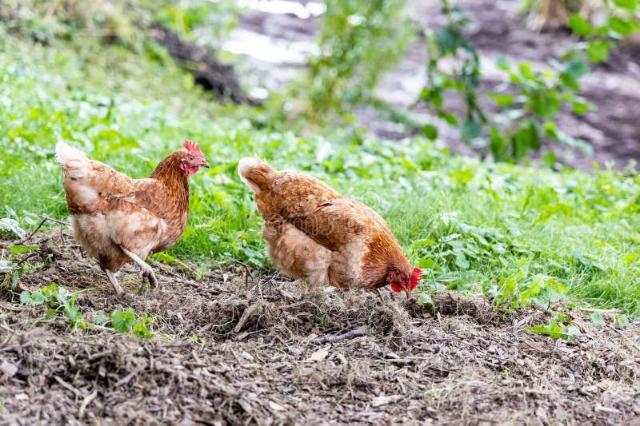Chicken: (237, 156, 422, 299), (53, 141, 210, 295)
